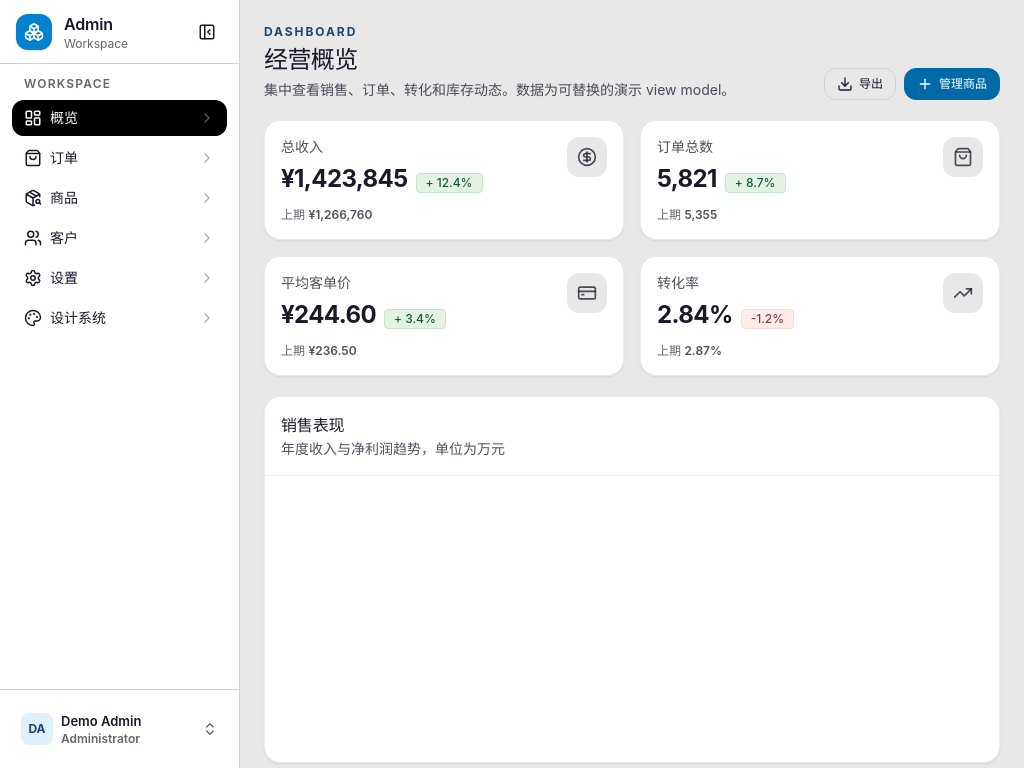
Test: admin dashboard scaffold › keeps resource sorting, pagination, and current-page selection controlled by the resource feature
This screenshot has width=1024, height=768.
Step 1. Click the link "商品" → (33, 198), box [24,189,215,207]
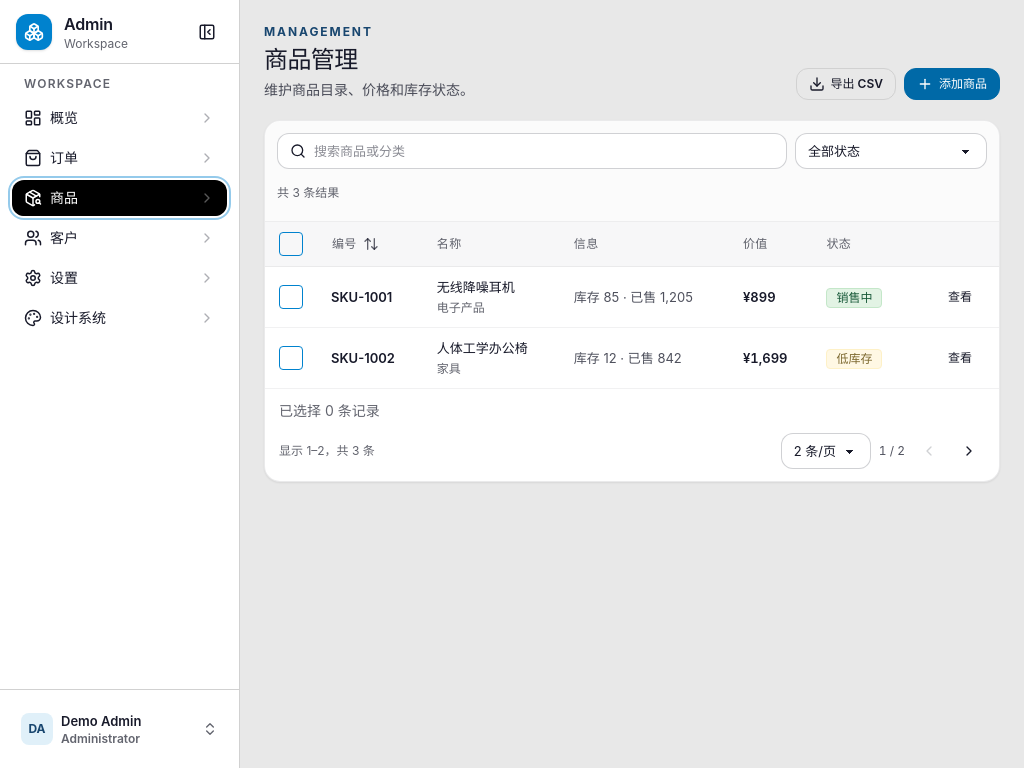
expect the text "SKU-1003" is not shown: met
expect the text "SKU-1001" is shown: met, box [331,289,392,305]
expect the text "显示 1–2，共 3 条" is shown: met, box [279,443,375,459]
Step 2. Click the checkbox named "选择记录 SKU-1001" next to "SKU-1001" → (291, 297), box [279,285,303,309]
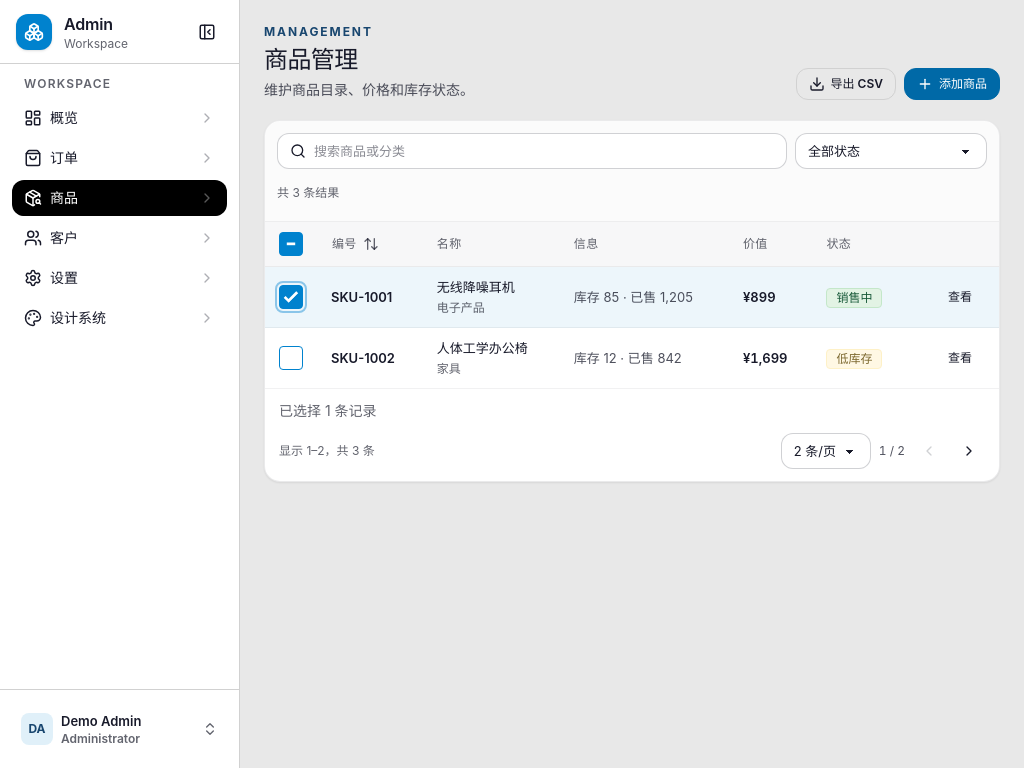
expect the text "已选择 1 条记录" is shown: met, box [279,402,377,419]
Step 3. Click the button named "下一页" → (969, 451), box [953,435,985,467]
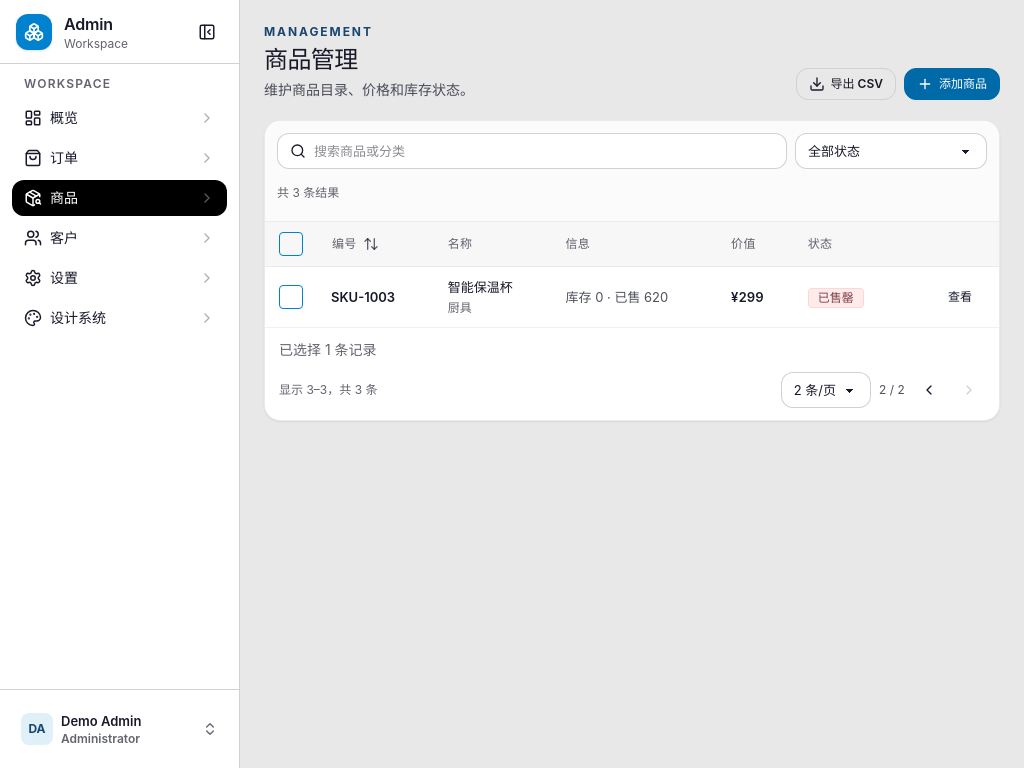
expect the text "SKU-1003" is shown: met, box [331,289,395,305]
expect the text "显示 3–3，共 3 条" is shown: met, box [279,382,377,398]
Step 4. Click the button with aria-label "按编号排序，未排序" → (355, 244), box [319,228,392,260]
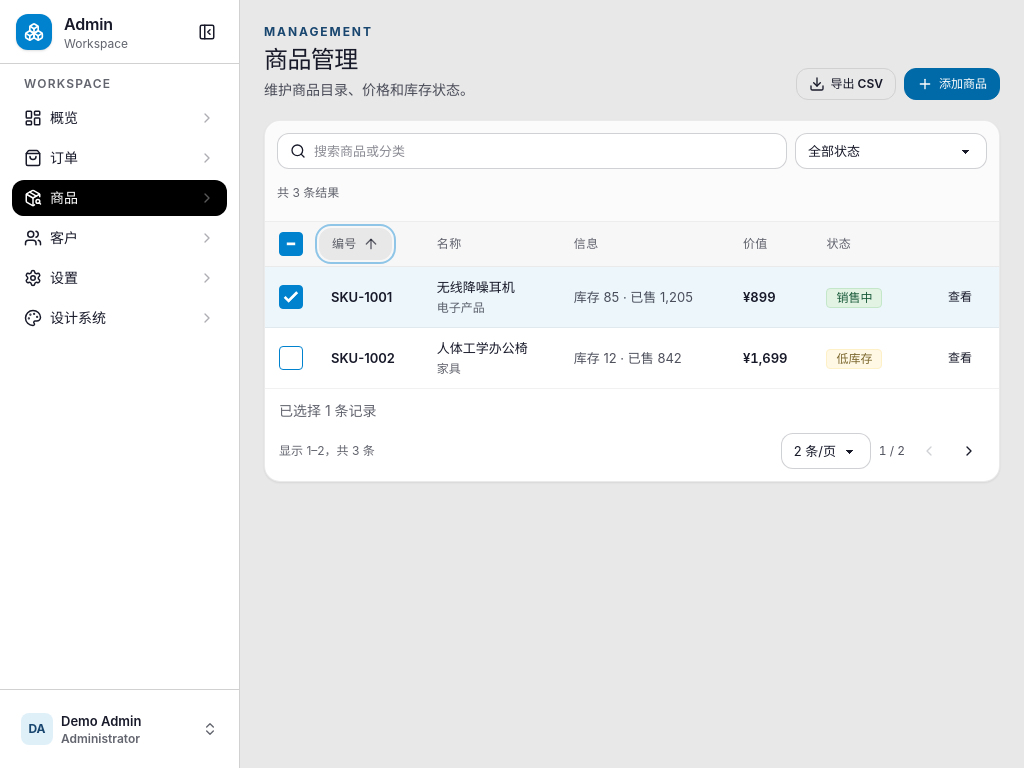
Step 5. Click the button with aria-label "按编号排序，升序" → (355, 244), box [319,228,392,260]
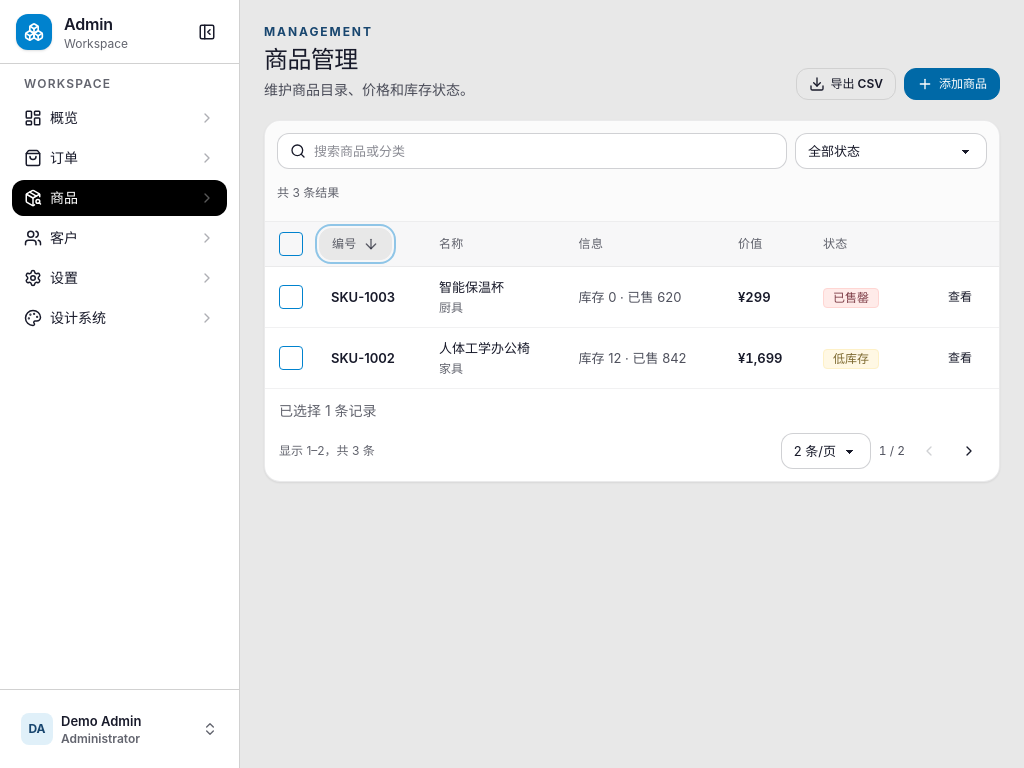
expect the text "SKU-1002" is shown: met, box [331,350,395,366]
expect the text "SKU-1003" is shown: met, box [331,289,395,305]
expect the text "SKU-1001" is gone: met
